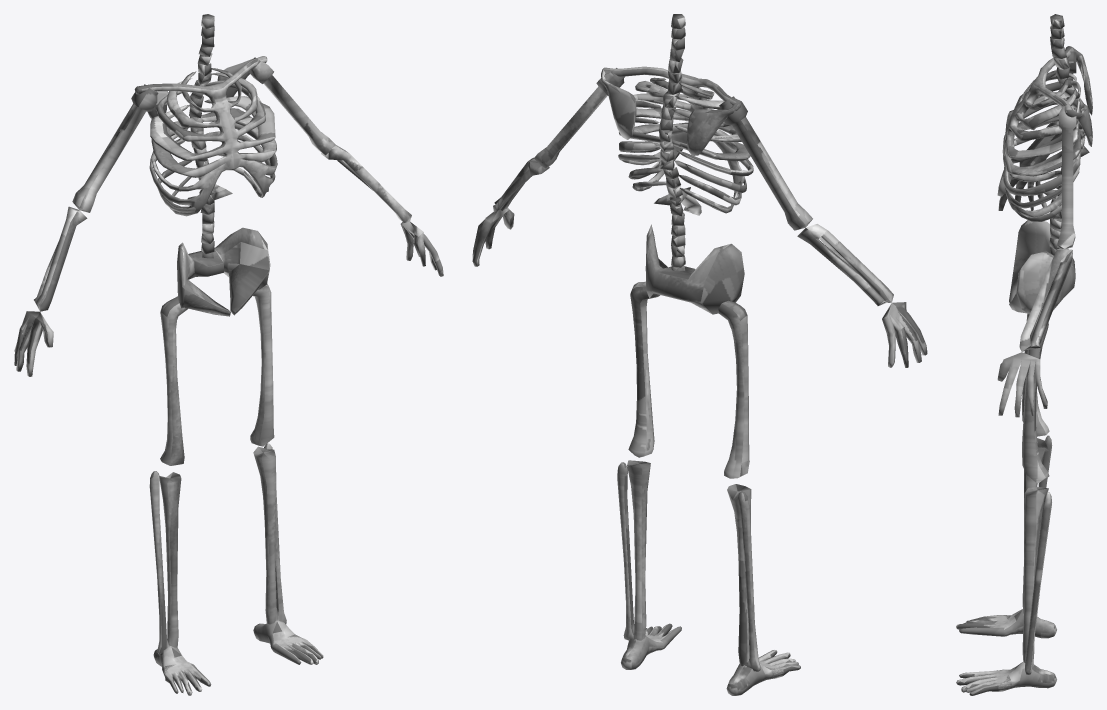
The model's file is skeletonv02.fbx.
The picture shows the model from 3 angles, left to right: view 1: azimuth 30°, elevation 25°; view 2: azimuth 150°, elevation 25°; view 3: azimuth 270°, elevation 25°; orthographic projection. The views are drawn at different scales.
Visible parts, largest first — view 1: chest, thigh, leg, Lleg, frontleg, shoulder, Lfrontleg, Lfoot, Lfrontarm, frontarm, Hand, foot1 (+2 smaller); view 2: chest, thigh, Lleg, leg, frontleg, Lfrontleg, shoulder, frontarm, Hand, Lfrontarm, foot1, Lfoot (+2 smaller); view 3: chest, Lleg, thigh, Larm, Lfoot, Lhand, Lfrontarm, Lfrontleg, foot1, leg, Hand, frontarm (+1 smaller).
Boxes of the visible parts, x1,y1,x2,y2 form: chest: [134, 14, 277, 258]; thigh: [177, 227, 270, 316]; leg: [149, 471, 181, 655]; Lleg: [253, 443, 286, 624]; frontleg: [160, 296, 187, 465]; shoulder: [72, 84, 158, 212]; Lfrontleg: [250, 283, 274, 446]; Lfoot: [253, 620, 323, 664]; Lfrontarm: [248, 57, 335, 155]; frontarm: [34, 206, 87, 311]; Hand: [14, 311, 53, 376]; foot1: [153, 645, 211, 695]; chest: [601, 14, 753, 271]; thigh: [645, 224, 744, 314]; Lleg: [617, 460, 650, 640]; leg: [727, 484, 760, 671]; frontleg: [718, 300, 749, 478]; Lfrontleg: [628, 281, 660, 457]; shoulder: [719, 96, 812, 230]; frontarm: [797, 224, 893, 305]; Hand: [882, 302, 927, 367]; Lfrontarm: [534, 68, 625, 169]; foot1: [726, 650, 800, 695]; Lfoot: [621, 623, 681, 669]; chest: [1002, 14, 1092, 255]; Lleg: [1022, 487, 1051, 674]; thigh: [1009, 220, 1075, 314]; Larm: [1019, 249, 1072, 351]; Lfoot: [956, 661, 1056, 695]; Lhand: [997, 352, 1047, 417]; Lfrontarm: [1057, 106, 1076, 248]; Lfrontleg: [1022, 308, 1049, 483]; foot1: [956, 609, 1056, 638]; leg: [1022, 435, 1052, 613]; Hand: [997, 171, 1046, 210]; frontarm: [1019, 122, 1061, 166].
Bounding box in the file's own units: 0.5868 × 0.8432 × 0.162.
1 material, 1 textured.
